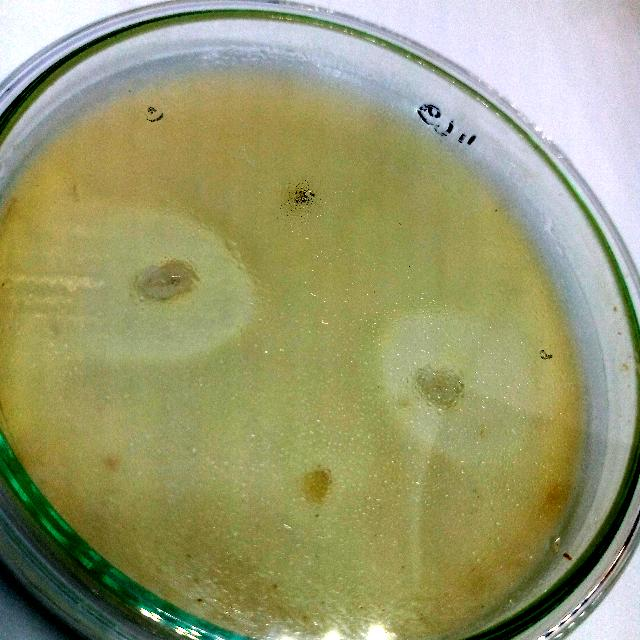colony: (129, 254, 197, 312), (416, 358, 472, 422), (288, 458, 340, 507), (286, 178, 320, 218)
